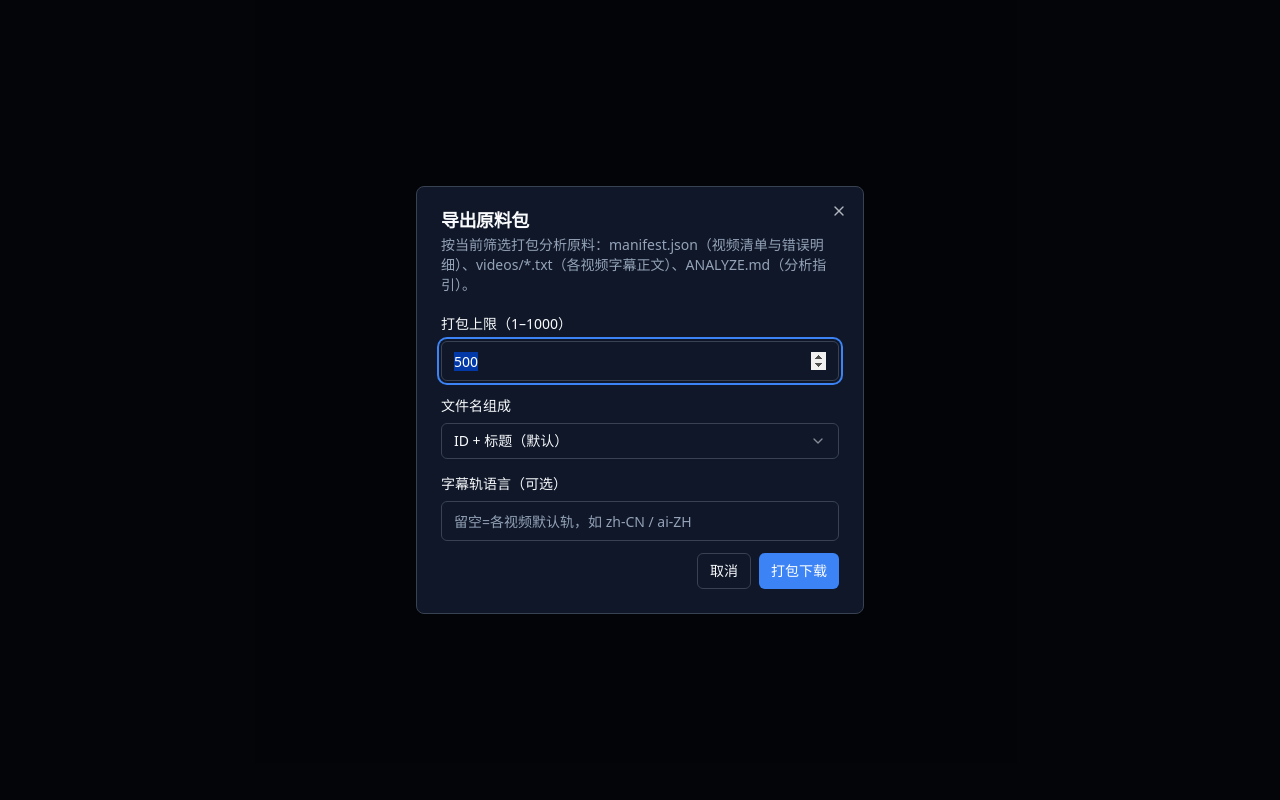
Test: track 留空不进 URL；E=0 不出缺字幕警告
The image size is (1280, 800).
What coordinates should you click on to do the following:
click the button "打包下载"
I would click on:
 (799, 571)
Its box is [759,553,839,589].
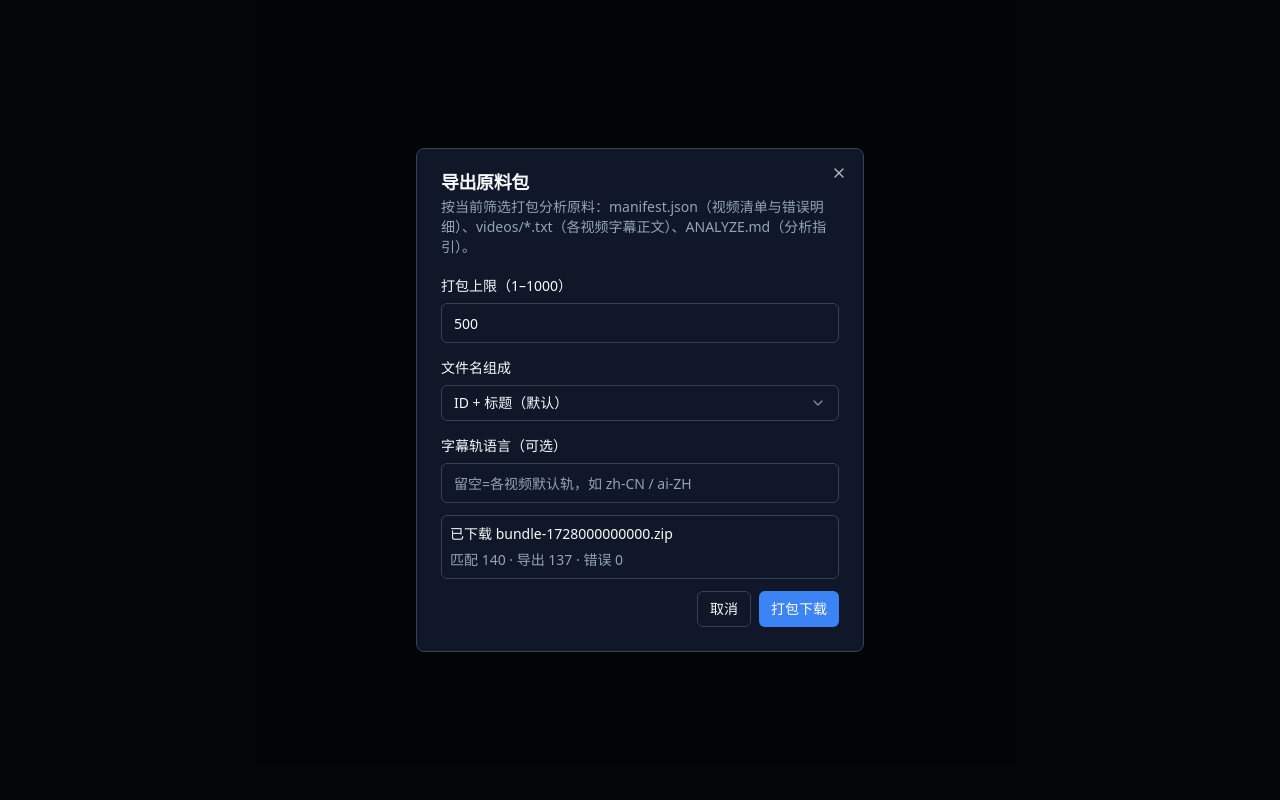
expect the text "匹配 140 · 导出 137 · 错误 0" is shown: met, box [450,550,623,569]
